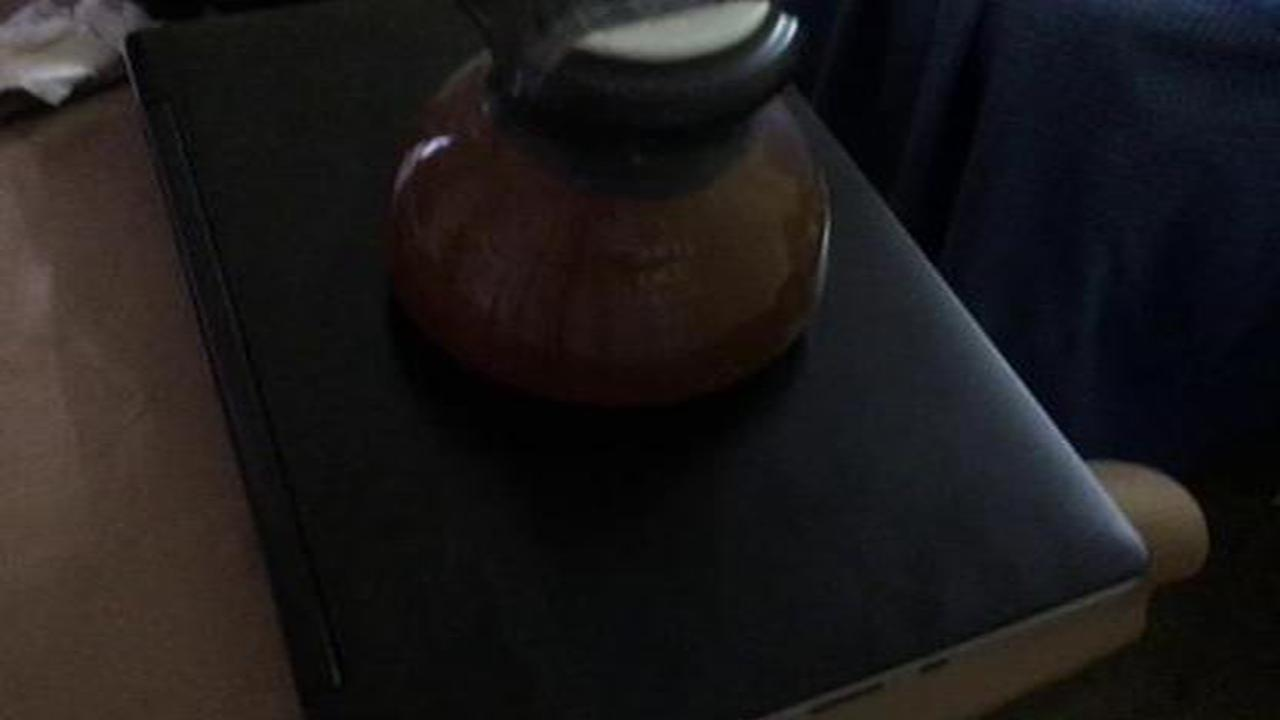insulator_pin: (361, 4, 874, 419)
